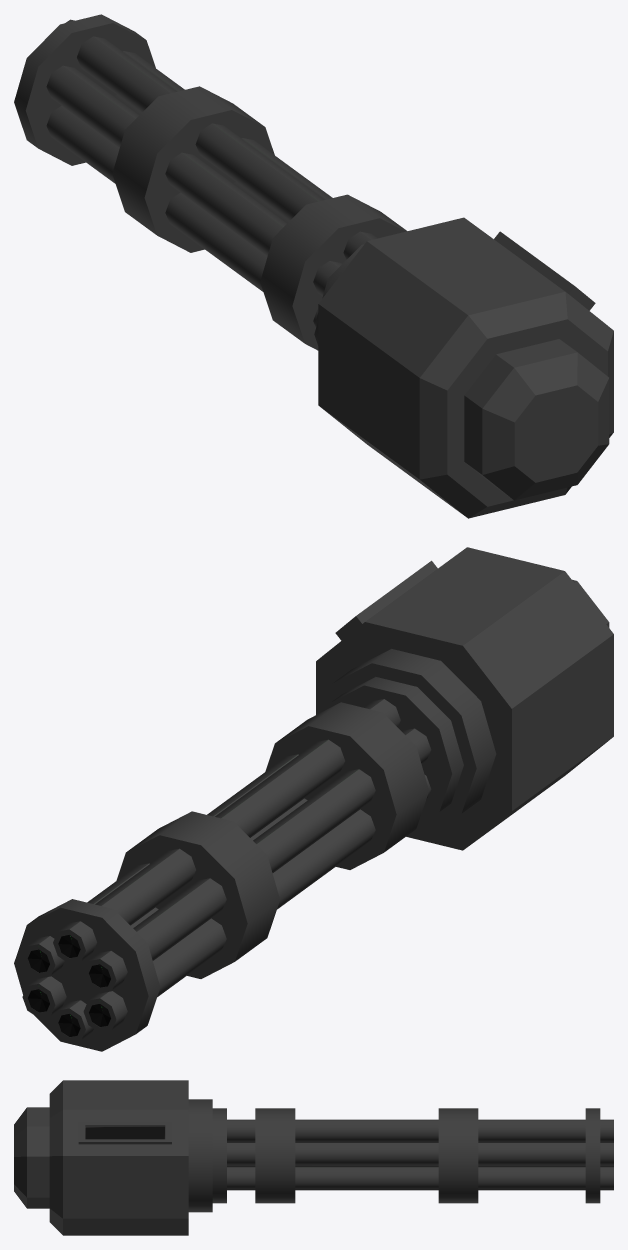
Rendered from Gattling_Gun.fbx.
3 renders of one model, top to bottom at view 1: azimuth 30°, elevation 25°; view 2: azimuth 150°, elevation 25°; view 3: azimuth 270°, elevation 25°, orthographic. The views are drawn at different scales.
Visible parts, largest first — view 1: Body, Barrel; view 2: Barrel, Body; view 3: Barrel, Body.
Part boxes in pixels (<box>): Body: <box>314,217,613,518</box>; Barrel: <box>14,14,407,350</box>; Barrel: <box>14,677,463,1051</box>; Body: <box>316,547,613,850</box>; Barrel: <box>212,1108,613,1203</box>; Body: <box>14,1080,212,1235</box>.
Bounding box in the file's own units: 1.08 × 1.08 × 4.67.
Materials: 2 (1 with a texture image).
